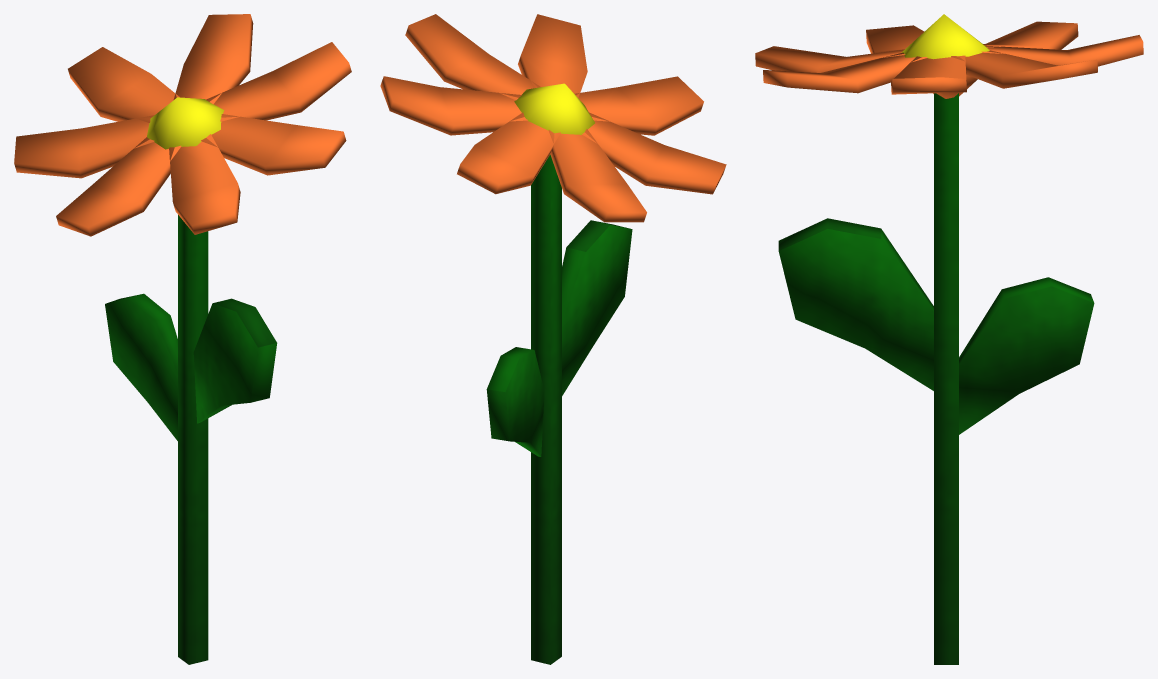
Rendered from daisy.003.fbx.
3 renders of one model, left to right at view 1: azimuth 30°, elevation 25°; view 2: azimuth 150°, elevation 25°; view 3: azimuth 270°, elevation 25°, orthographic. The views are drawn at different scales.
Visible parts, largest first — view 1: daisy.003; view 2: daisy.003; view 3: daisy.003.
Part boxes in pixels (x1,y1,x2,y2): daisy.003: (14, 14, 351, 664); daisy.003: (380, 14, 726, 664); daisy.003: (755, 14, 1143, 664).
Size of the model in its own units: 0.3072 by 0.5888 by 0.3154.
